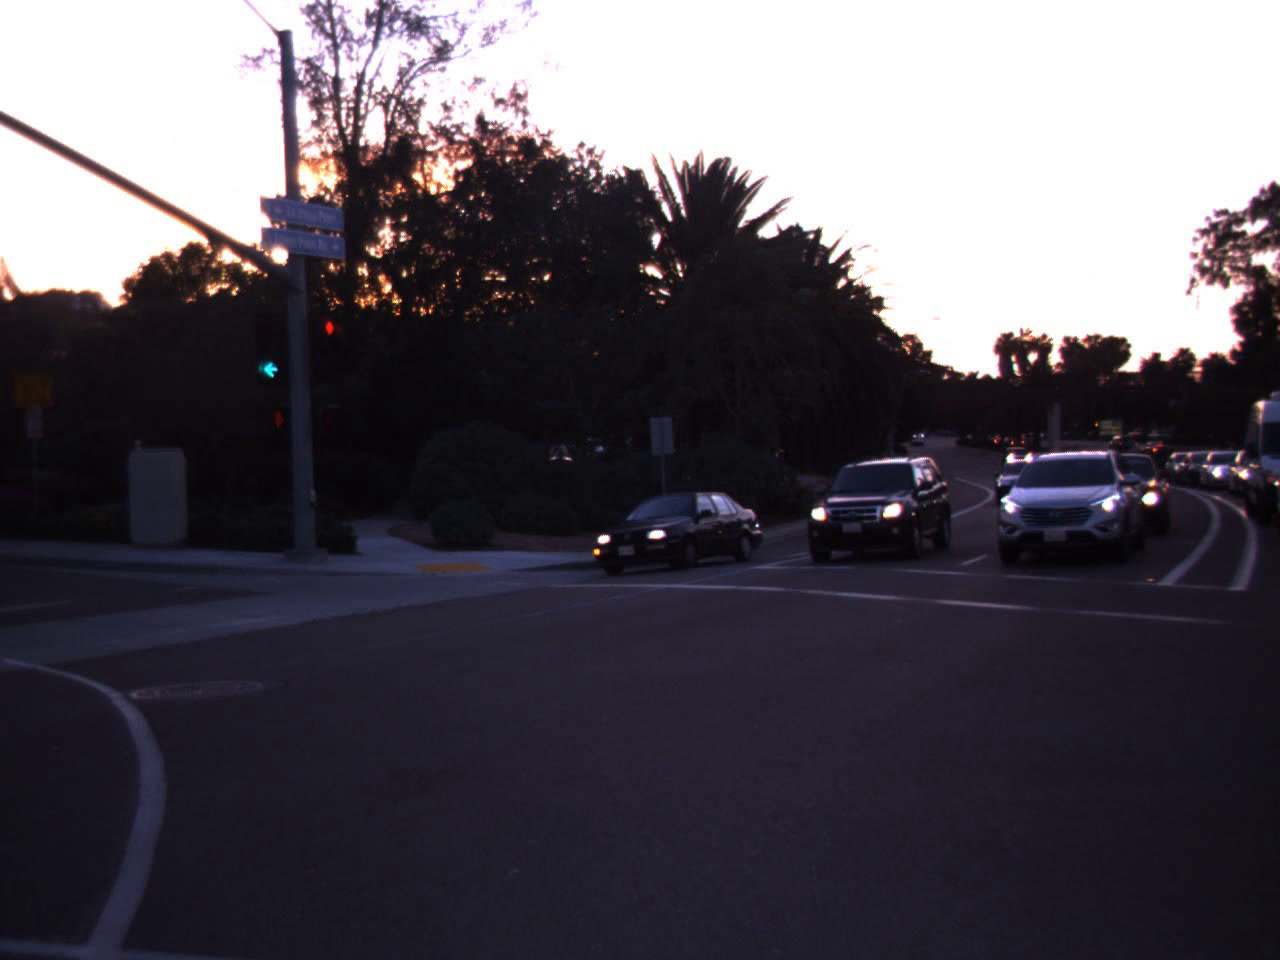go: (241, 304, 298, 384)
